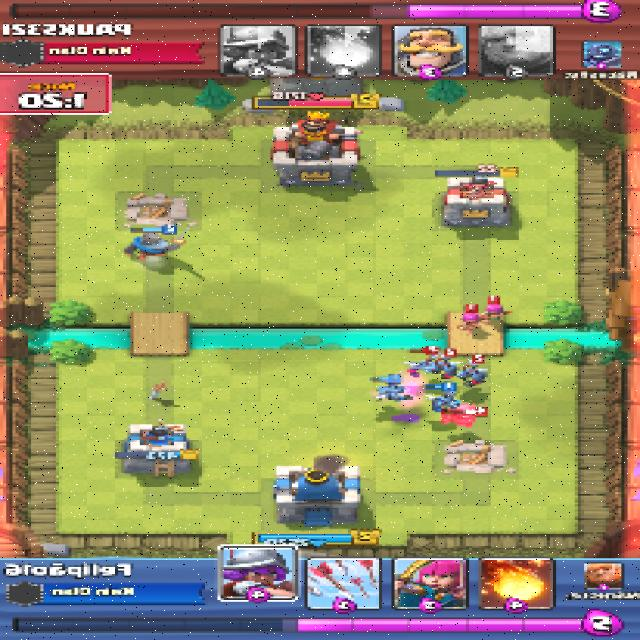Enemy-Archer: (458, 312, 481, 328), (485, 304, 507, 318)
Enemy-MiniPEKKA: (446, 406, 486, 428)
Enemy-Minion: (462, 367, 491, 384), (412, 358, 439, 373), (438, 360, 460, 378)
Player-Knight: (122, 232, 183, 259)
Player-Minion: (376, 385, 409, 401), (430, 395, 461, 412)
